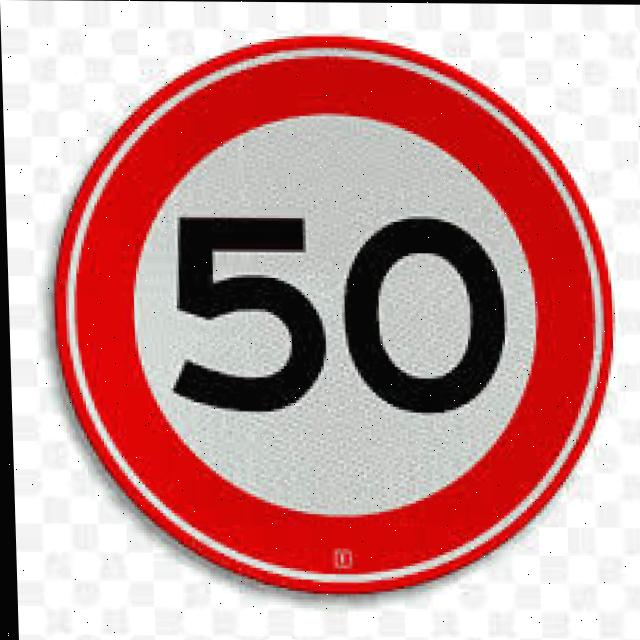Speed limit 50: (39, 27, 624, 599)
